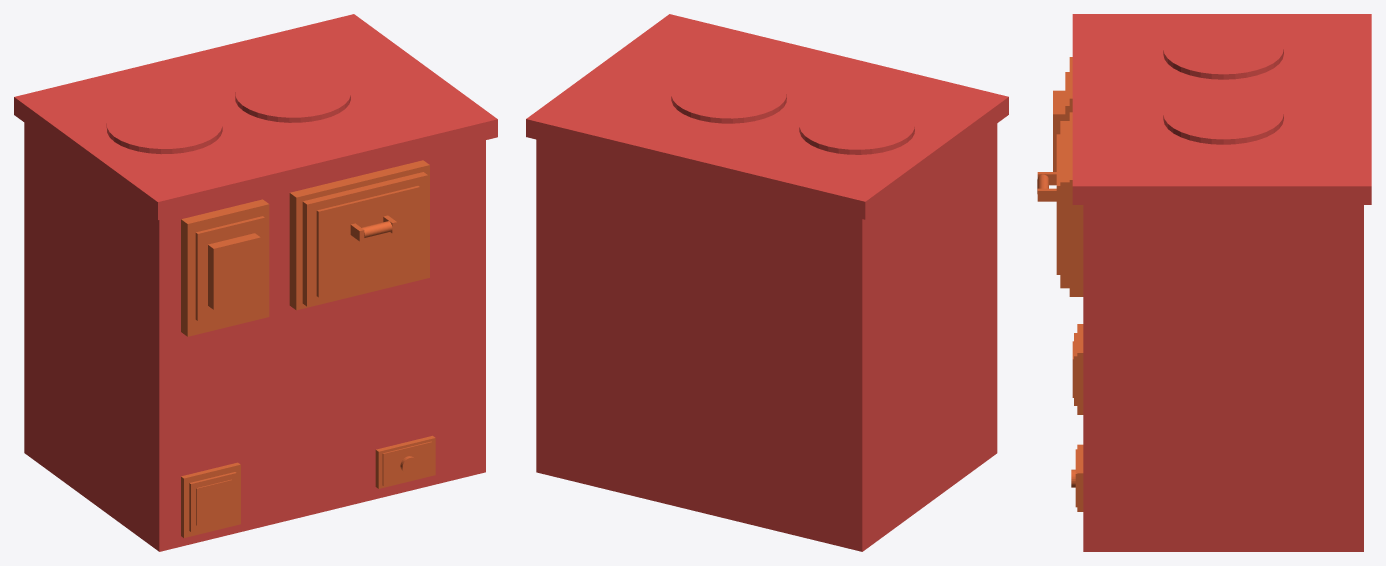
File: Hella2.fbx
3 renders of one model, left to right at view 1: azimuth 30°, elevation 25°; view 2: azimuth 150°, elevation 25°; view 3: azimuth 270°, elevation 25°, orthographic. The views are drawn at different scales.
Visible parts, largest first — view 1: Cube; view 2: Cube; view 3: Cube.
Boxes of the visible parts, bbox=[...] form: Cube: bbox=[14, 14, 497, 551]; Cube: bbox=[526, 14, 1008, 551]; Cube: bbox=[1037, 14, 1371, 551].
Bounding box in the file's own units: 208 × 211 × 170.
